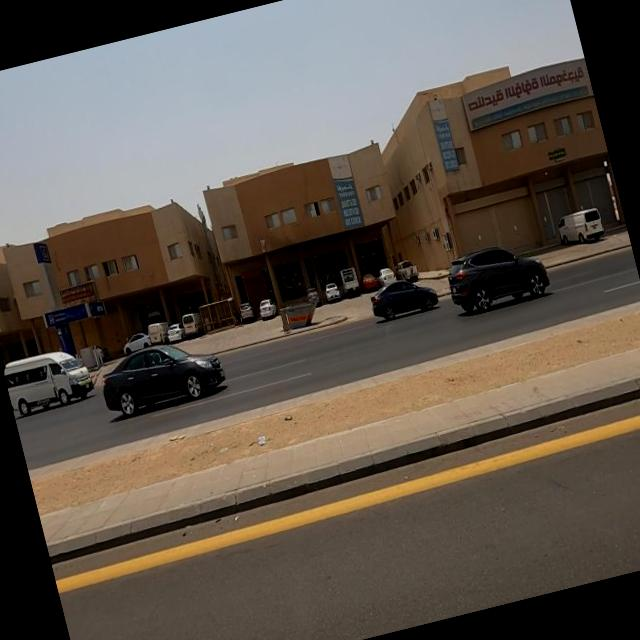debris: (235, 407, 293, 472)
